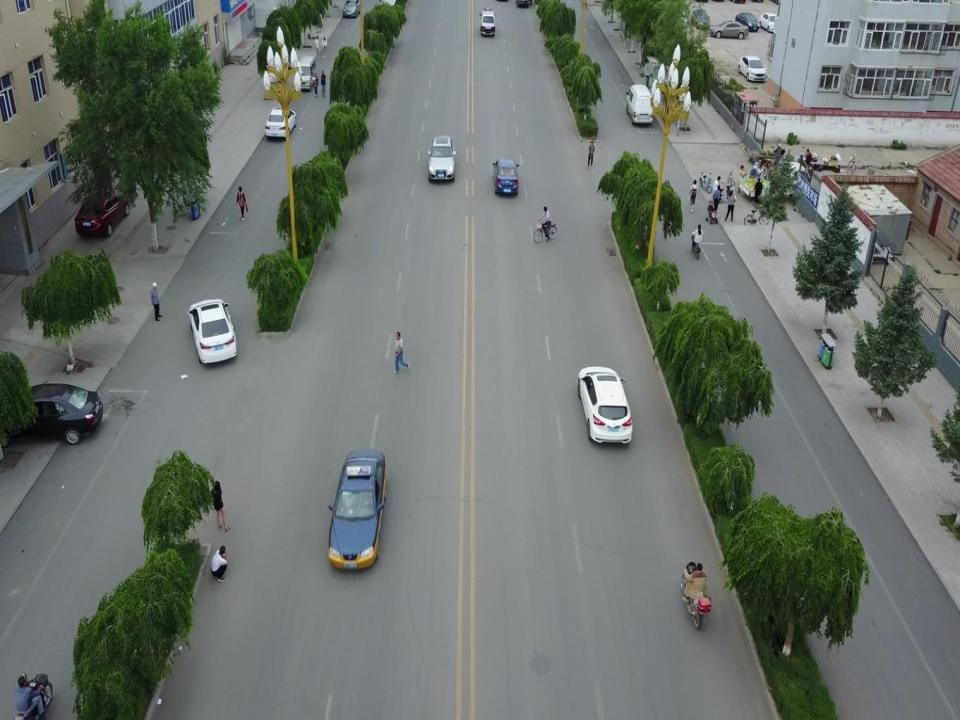car: (327, 448, 387, 569), (0, 383, 103, 448), (578, 366, 633, 444), (187, 298, 237, 364), (74, 191, 131, 237), (427, 136, 456, 182), (492, 158, 519, 196), (266, 108, 297, 140), (709, 20, 748, 40), (738, 55, 767, 81), (759, 12, 782, 33), (735, 12, 759, 32), (691, 10, 711, 30), (342, 0, 361, 18)
van: (626, 84, 654, 125), (296, 56, 317, 92), (480, 7, 496, 36)
